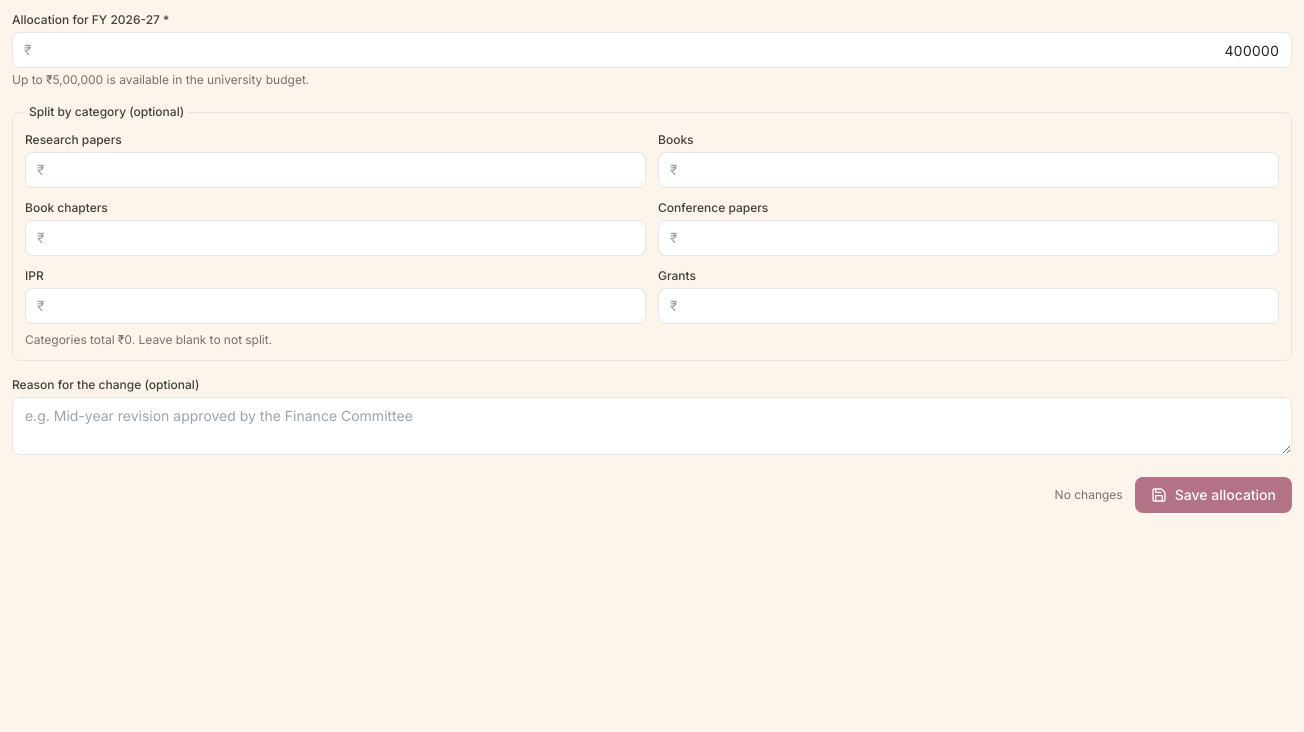
Test: AllocationEditor › blocks amounts above what the parent has left and explains why
The width and height of the screenshot is (1304, 732).
Replace the text in the field labelled "Allocation for FY 2026-27 *" with "600000": (652, 50) x1=12 y1=32 x2=1292 y2=68
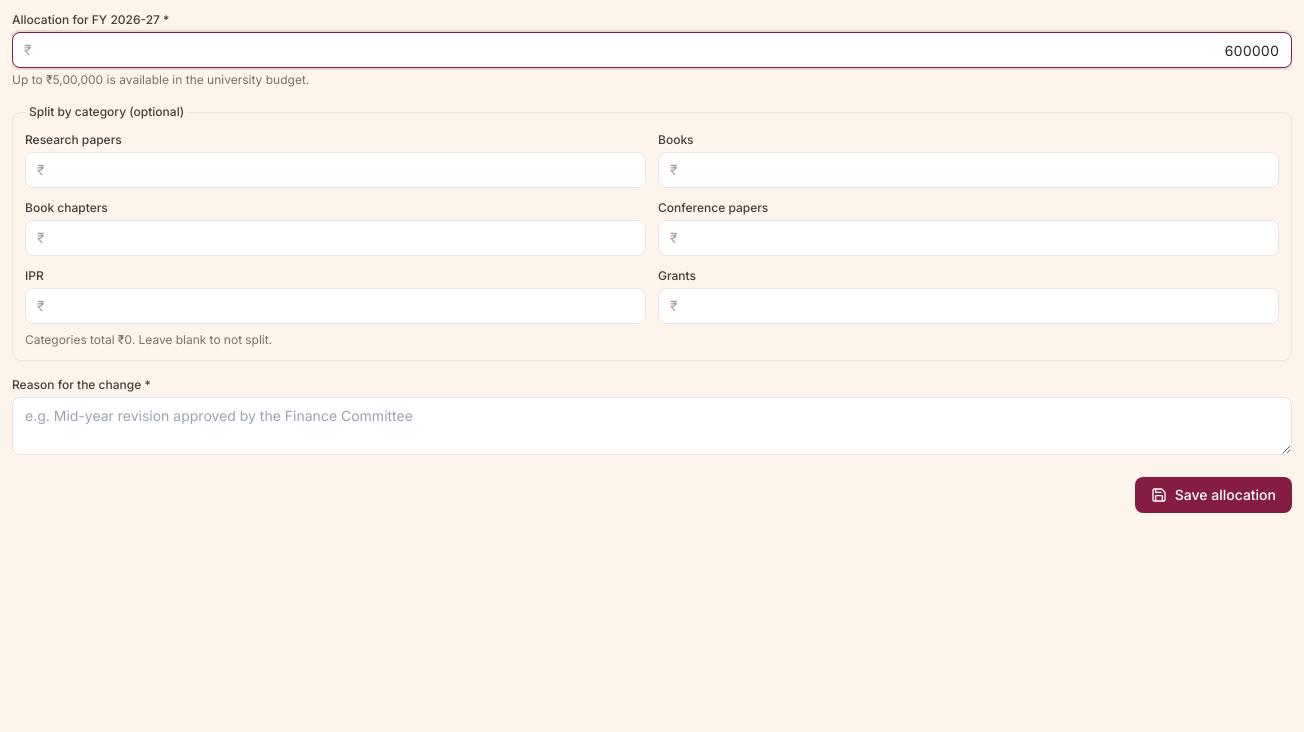
In the text box labelled "Reason for the change *": (652, 426) x1=12 y1=397 x2=1292 y2=455, type "More money"
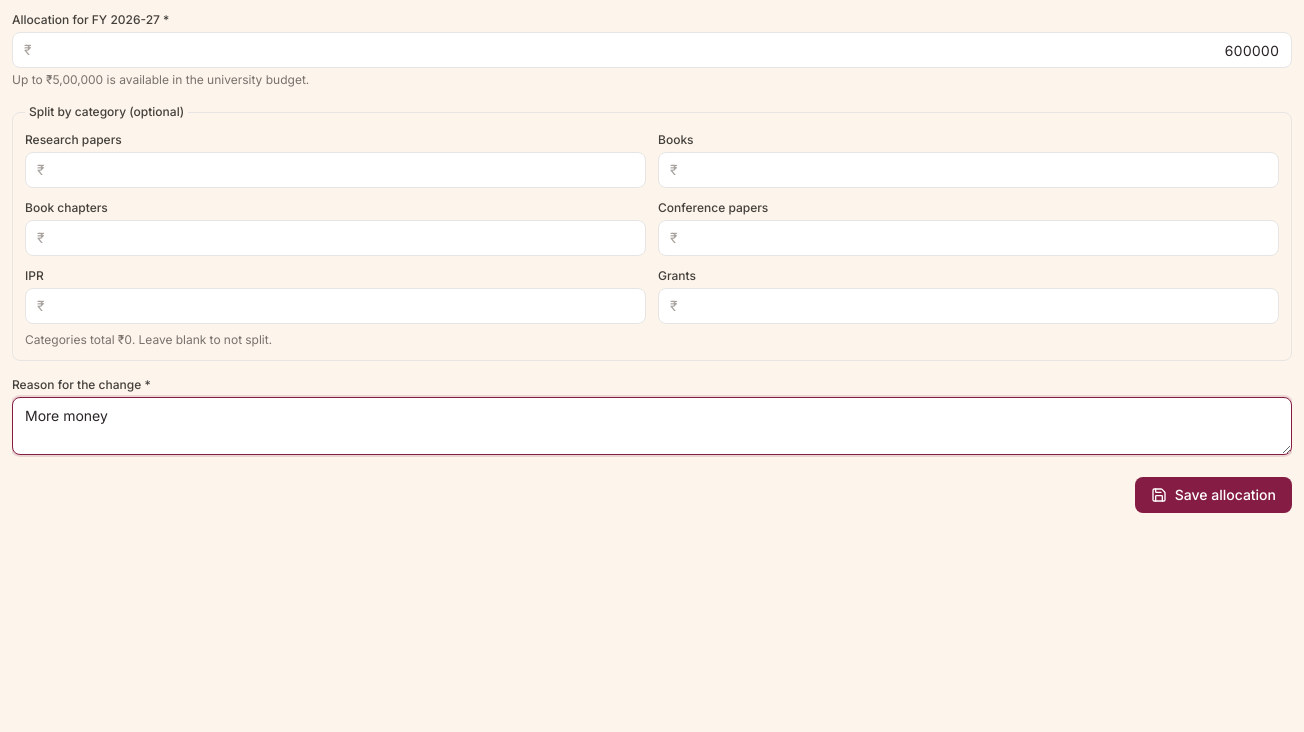
Click the button "Save allocation": (1213, 495) x1=1135 y1=477 x2=1292 y2=513
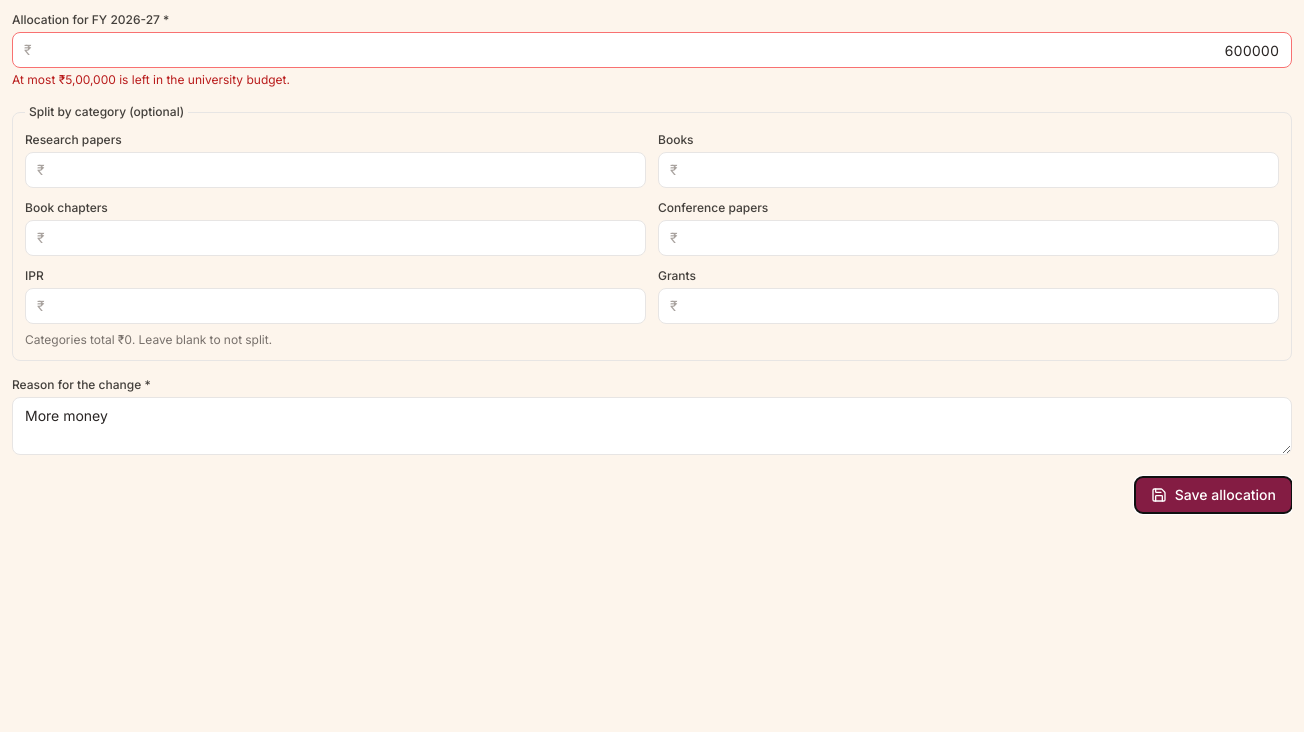
Now the text "At most ₹5,00,000 is left in the university budget." is shown, box x1=12 y1=72 x2=290 y2=87
